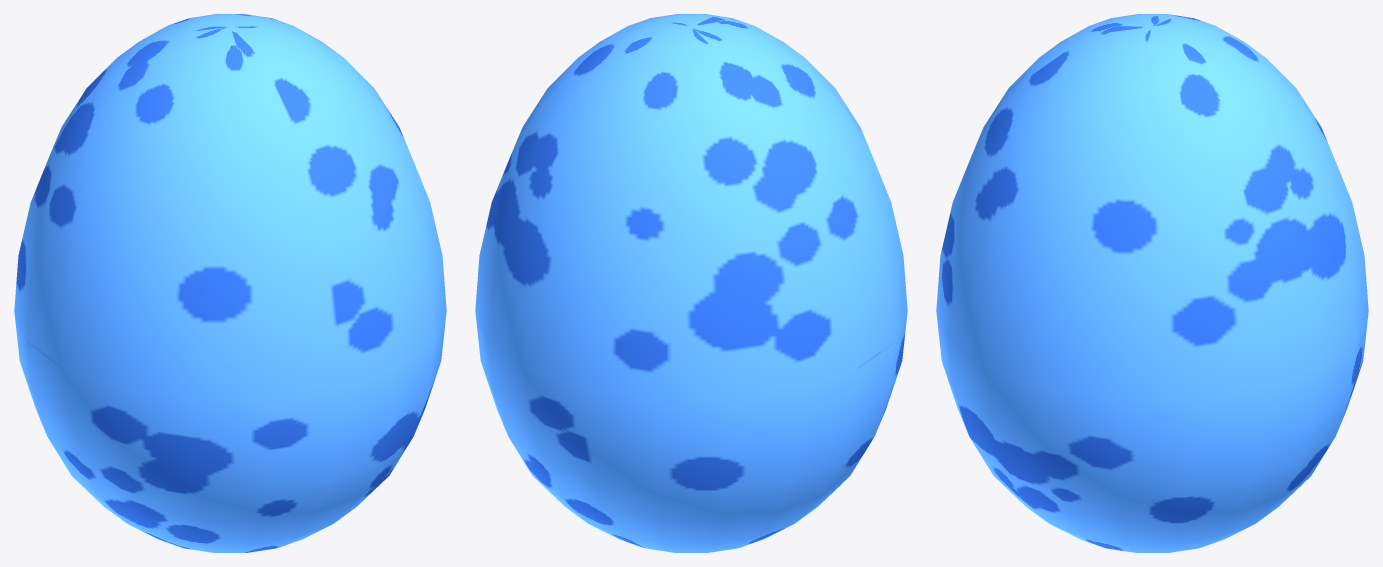
Rendered from egg_rare.glb.
3 renders of one model, left to right at view 1: azimuth 30°, elevation 25°; view 2: azimuth 150°, elevation 25°; view 3: azimuth 270°, elevation 25°, orthographic.
Parts seen in each view (by area): view 1: top, bottom; view 2: top, bottom; view 3: top, bottom.
Boxes of the visible parts, x1,y1,x2,y2 form: top: (14, 14, 446, 400); bottom: (14, 311, 446, 552); top: (475, 14, 907, 400); bottom: (475, 311, 907, 552); top: (936, 14, 1368, 400); bottom: (936, 311, 1368, 552).
Bounding box in the file's own units: 0.3939 × 0.52 × 0.4.
Materials: 1 (1 with a texture image).
